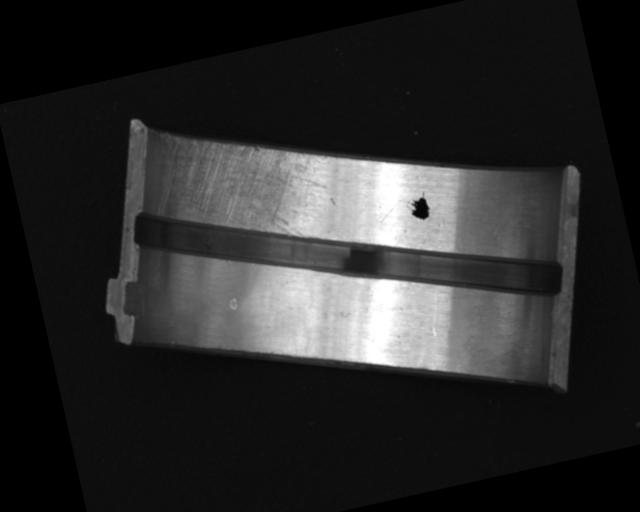blot: (405, 190, 433, 223)
bruise: (227, 294, 239, 311)
gap: (132, 126, 570, 381)
nick: (422, 285, 447, 336)
scratch: (158, 105, 341, 265)
